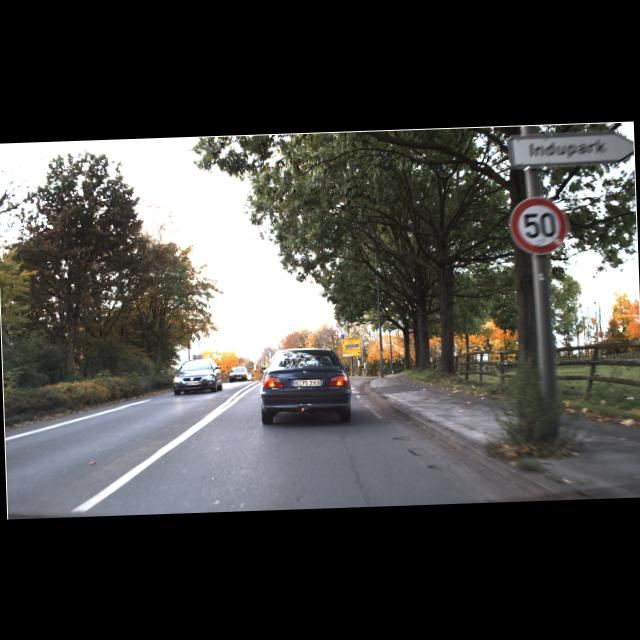prohibitory: (508, 196, 568, 255)
